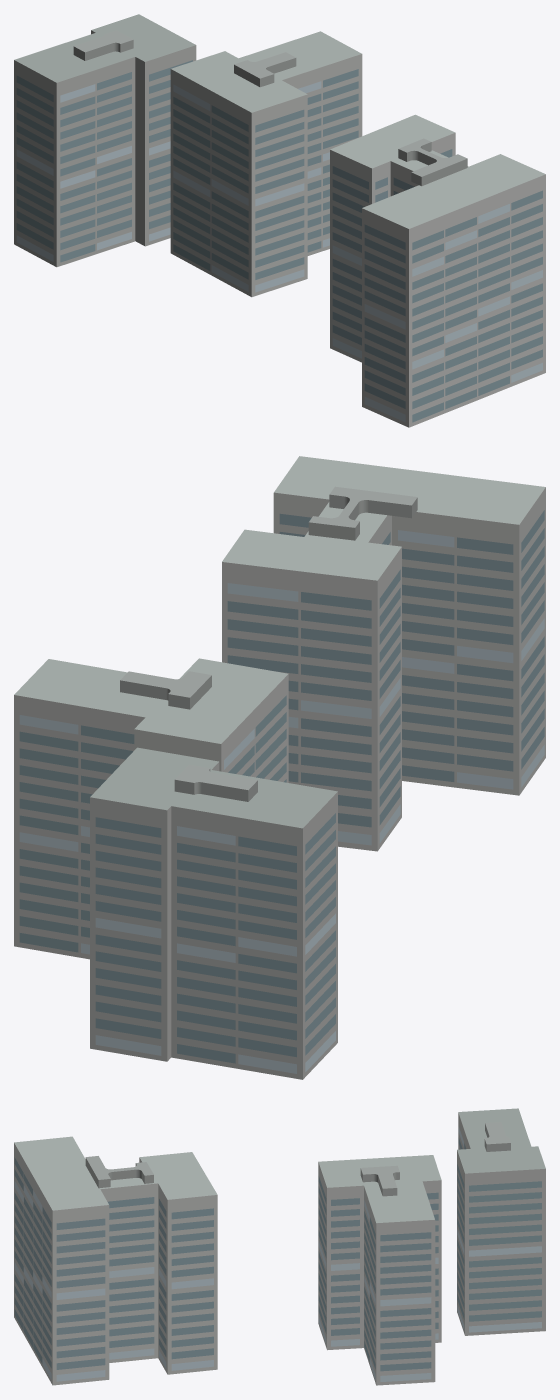
The model's file is apt-a10026046.glb.
3 views of the same model, one above another, from view 1: azimuth 30°, elevation 25°; view 2: azimuth 150°, elevation 25°; view 3: azimuth 270°, elevation 25° (orthographic). The views are drawn at different scales.
Visible parts, largest first — view 1: apt-a10026046; view 2: apt-a10026046; view 3: apt-a10026046.
Boxes of the visible parts, x1,y1,x2,y2 form: apt-a10026046: [14, 14, 545, 427]; apt-a10026046: [14, 456, 545, 1079]; apt-a10026046: [14, 1108, 545, 1385].
Size of the model in its own units: 56.49 by 42 by 111.
